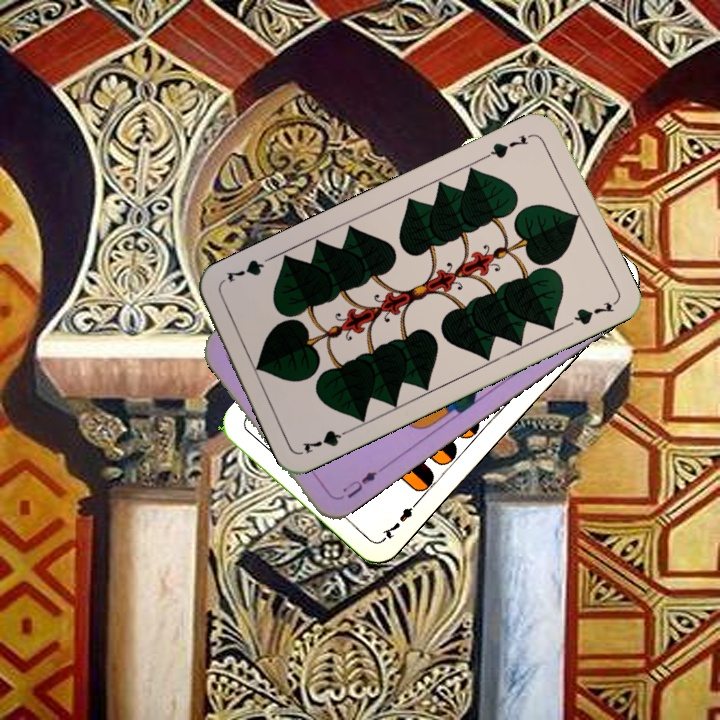E7: (378, 495, 423, 543)
EU: (338, 467, 380, 501)
G7: (298, 423, 355, 457), (481, 129, 537, 162)
